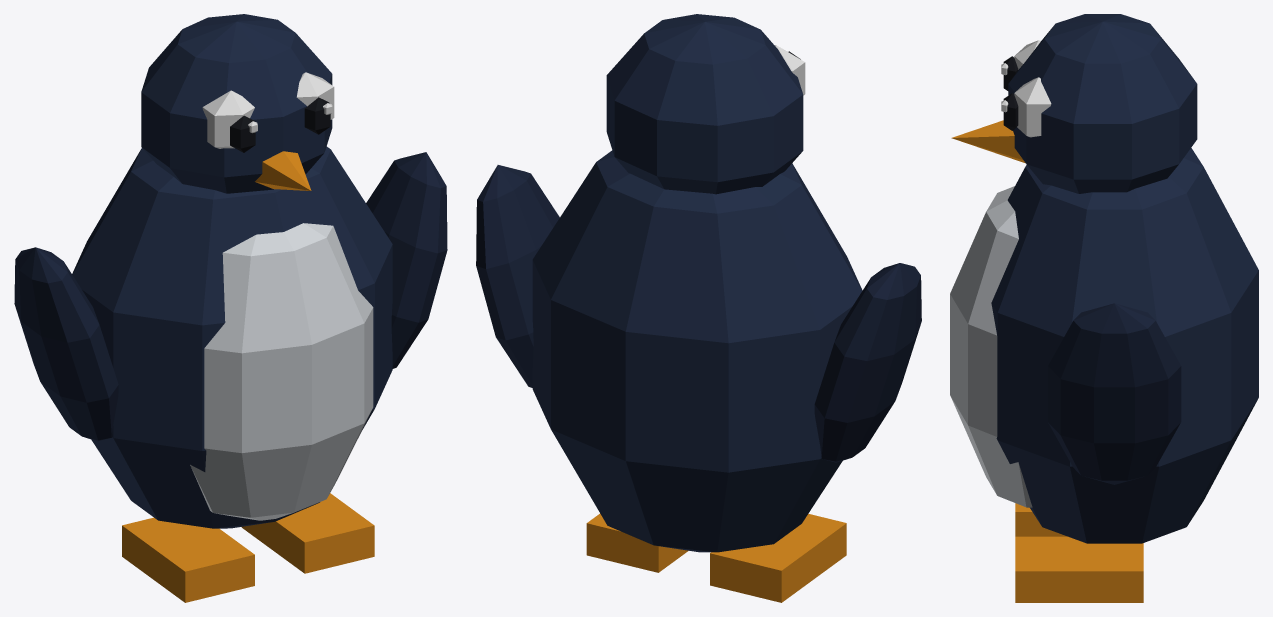
The model's file is critter_penguin.glb.
The picture shows the model from 3 angles, left to right: view 1: azimuth 30°, elevation 25°; view 2: azimuth 150°, elevation 25°; view 3: azimuth 270°, elevation 25°; orthographic projection. The views are drawn at different scales.
Visible parts, largest first — view 1: penguin; view 2: penguin; view 3: penguin.
Boxes of the visible parts, bbox=[...] form: penguin: bbox=[14, 14, 447, 602]; penguin: bbox=[476, 14, 921, 602]; penguin: bbox=[950, 14, 1258, 602].
Size of the model in its own units: 0.8245 by 1.01 by 0.529.
